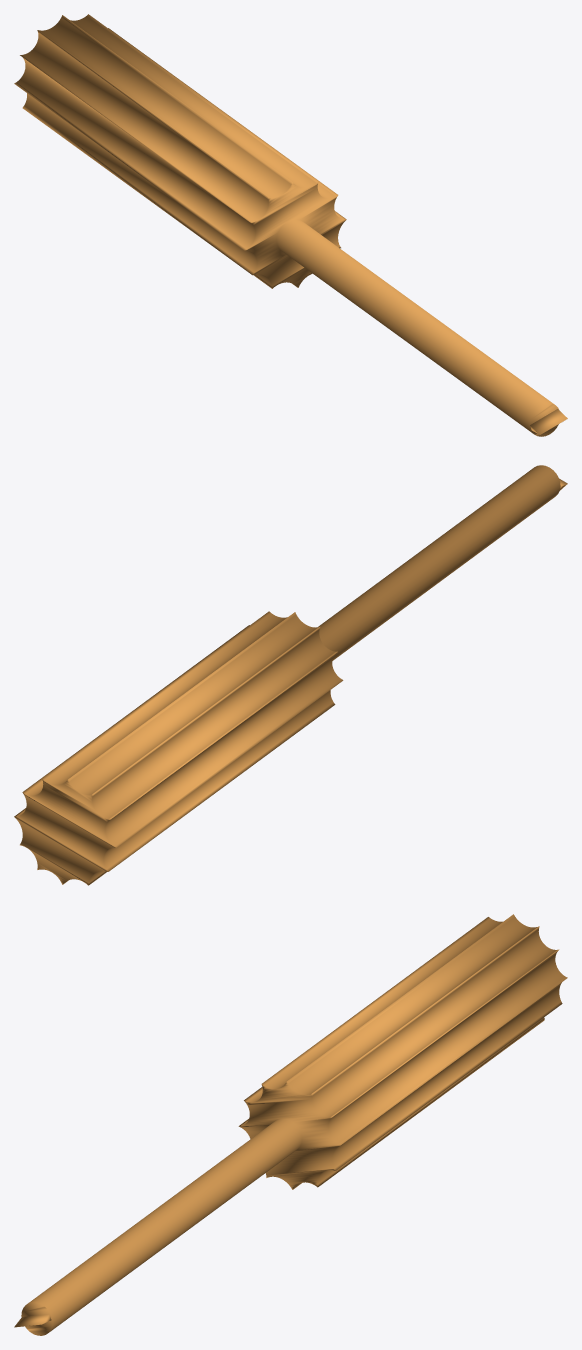
Rendered from screwdriver1_6.dae.
The picture shows the model from 3 angles, top to bottom: view 1: azimuth 30°, elevation 25°; view 2: azimuth 150°, elevation 25°; view 3: azimuth 330°, elevation 25°; orthographic projection.
Parts seen in each view (by area): view 1: screwdriver1_019; view 2: screwdriver1_019; view 3: screwdriver1_019.
Part boxes in pixels (bbox=[...]): screwdriver1_019: bbox=[14, 14, 567, 436]; screwdriver1_019: bbox=[14, 465, 567, 885]; screwdriver1_019: bbox=[14, 914, 567, 1335].
Bounding box in the file's own units: 0.0454 × 0.3695 × 0.0448.
